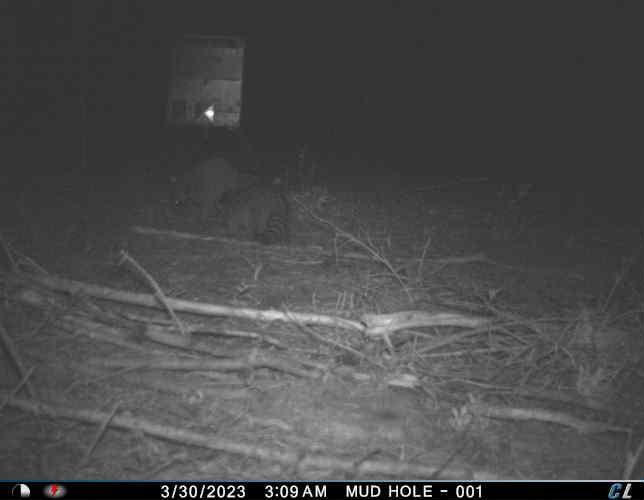Raccoon: (216, 182, 296, 246), (171, 155, 241, 218)
